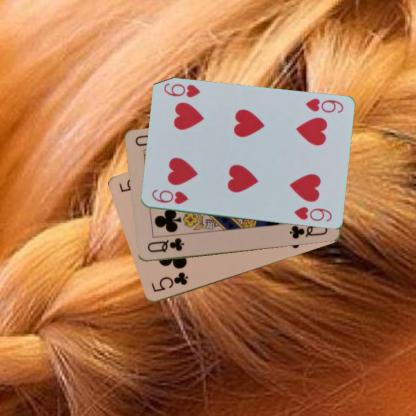5c: (148, 269, 190, 294)
6h: (149, 186, 190, 206), (303, 96, 344, 114)
Qc: (144, 236, 186, 254)
